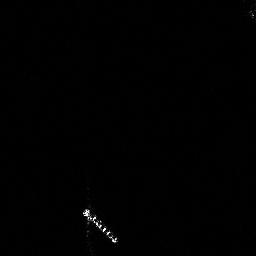ship: (81, 206, 119, 245)
